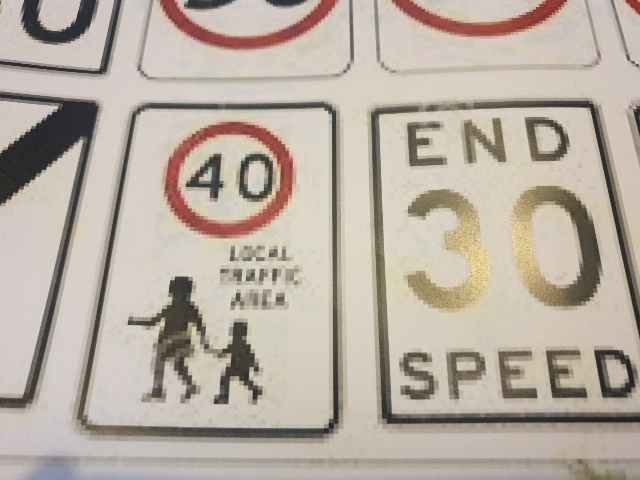sp30: (394, 177, 605, 324)
sp40: (162, 123, 302, 239)
